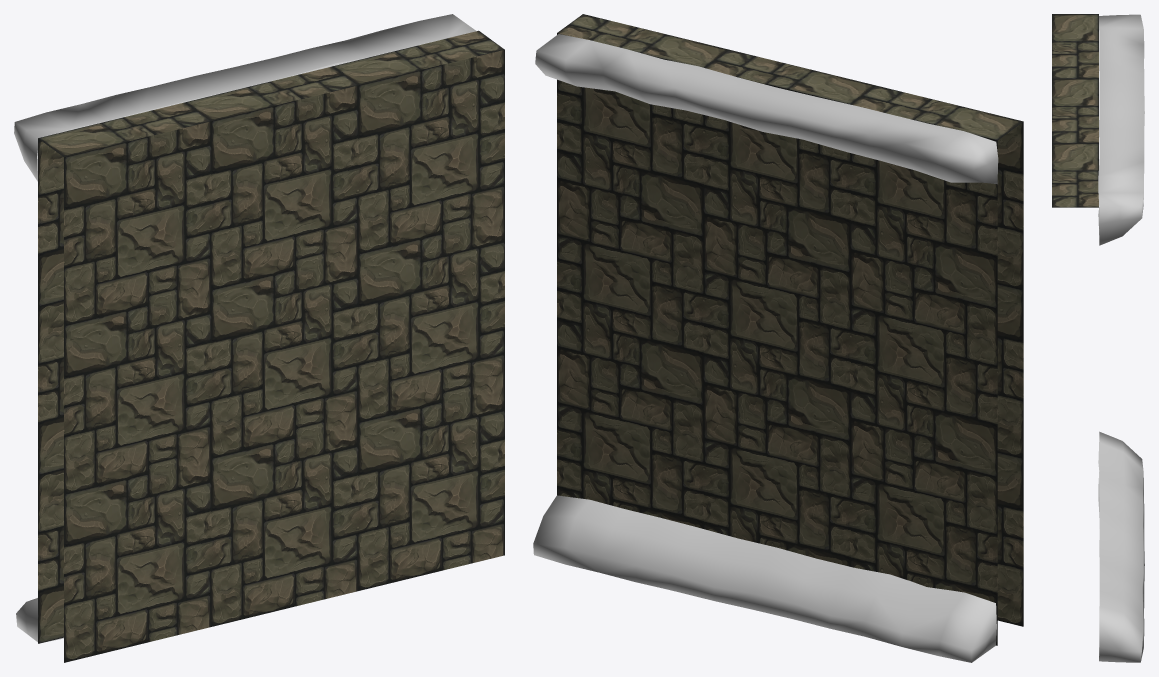
The model's file is wall_standard.fbx.
The picture shows the model from 3 angles, left to right: view 1: azimuth 30°, elevation 25°; view 2: azimuth 150°, elevation 25°; view 3: azimuth 270°, elevation 25°; orthographic projection. The views are drawn at different scales.
Parts seen in each view (by area): view 1: pCube1, polySurface1; view 2: pCube1, polySurface1; view 3: polySurface1, pCube1.
Part boxes in pixels (left/top/right/bottom): pCube1: left=38, top=30, right=504, bottom=662; polySurface1: left=14, top=14, right=476, bottom=642; pCube1: left=557, top=14, right=1023, bottom=645; polySurface1: left=533, top=34, right=998, bottom=662; polySurface1: left=1098, top=14, right=1144, bottom=662; pCube1: left=1052, top=14, right=1098, bottom=207.
Bounding box in the file's own units: 9.89 × 10.81 × 1.98.
